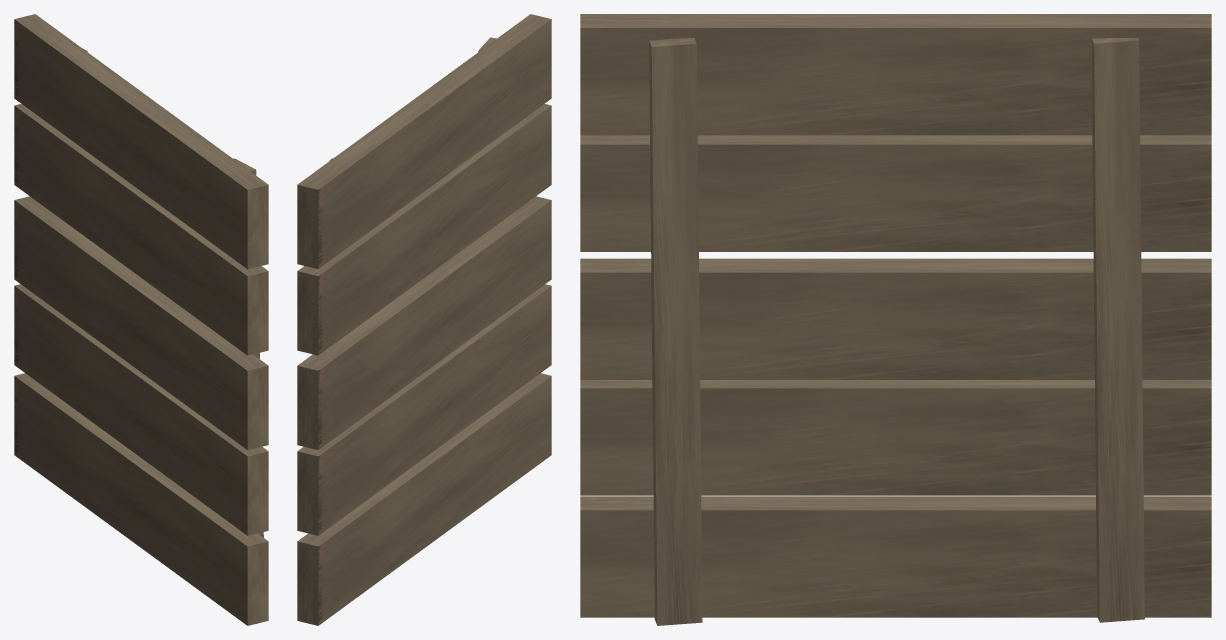
The model's file is wall_plank.obj.
The picture shows the model from 3 angles, left to right: view 1: azimuth 30°, elevation 25°; view 2: azimuth 150°, elevation 25°; view 3: azimuth 270°, elevation 25°; orthographic projection. The views are drawn at different scales.
Parts seen in each view (by area): view 1: Cube.007, Cube.005, Cube.006, Cube.004, Cube.003; view 2: Cube.007, Cube.005, Cube.006, Cube.004, Cube.003; view 3: Cube.007, Cube.005, Cube.006, Cube.004, Cube.003, Cube.008, Cube.009.
Part boxes in pixels (left/top/right/bottom): Cube.007: left=14, top=14, right=268, bottom=269; Cube.005: left=14, top=196, right=268, bottom=449; Cube.006: left=14, top=373, right=268, bottom=625; Cube.004: left=14, top=104, right=268, bottom=355; Cube.003: left=14, top=284, right=268, bottom=535; Cube.007: left=297, top=14, right=551, bottom=269; Cube.005: left=297, top=196, right=551, bottom=449; Cube.006: left=297, top=373, right=551, bottom=625; Cube.004: left=297, top=104, right=551, bottom=355; Cube.003: left=297, top=284, right=551, bottom=535; Cube.007: left=580, top=14, right=1211, bottom=135; Cube.005: left=580, top=258, right=1211, bottom=379; Cube.006: left=580, top=496, right=1211, bottom=617; Cube.004: left=580, top=135, right=1211, bottom=251; Cube.003: left=580, top=380, right=1211, bottom=495; Cube.008: left=649, top=38, right=702, bottom=625; Cube.009: left=1092, top=38, right=1144, bottom=622.
Bounding box in the file's own units: 0.8104 × 7.38 × 7.16.
Materials: 3 (3 with a texture image).
